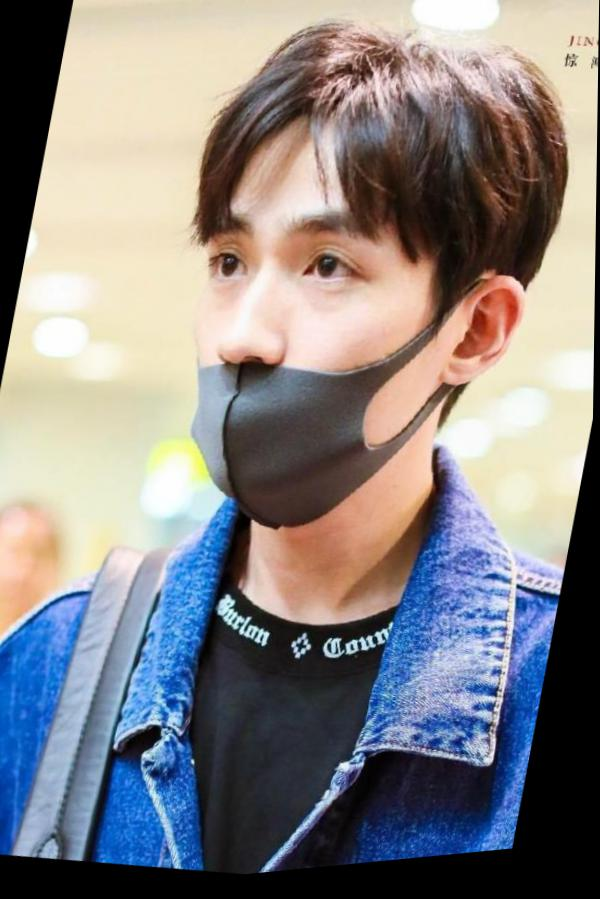WRONG: (163, 150, 472, 559)
